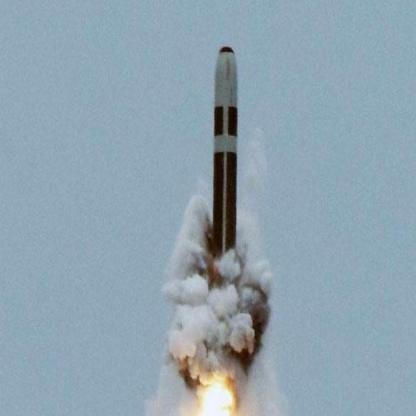MIL_TBM: (209, 37, 242, 272)
